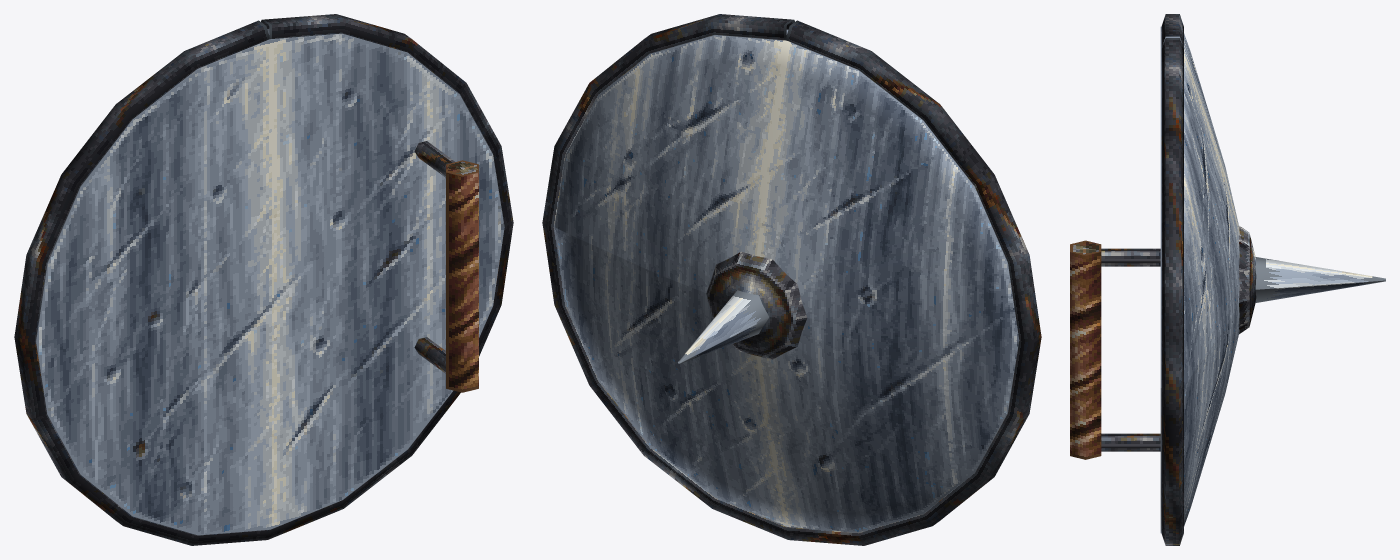
The model's file is spiked_buckler.glb.
3 renders of one model, left to right at view 1: azimuth 30°, elevation 25°; view 2: azimuth 150°, elevation 25°; view 3: azimuth 270°, elevation 25°, orthographic. The views are drawn at different scales.
Visible parts, largest first — view 1: spiked_buckler; view 2: spiked_buckler; view 3: spiked_buckler.
Part boxes in pixels (x1,y1,x2,y2): spiked_buckler: [14, 14, 513, 545]; spiked_buckler: [542, 14, 1041, 545]; spiked_buckler: [1070, 14, 1385, 545].
Size of the model in its own units: 0.3569 by 0.3569 by 0.2104.
Materials: 1 (1 with a texture image).
